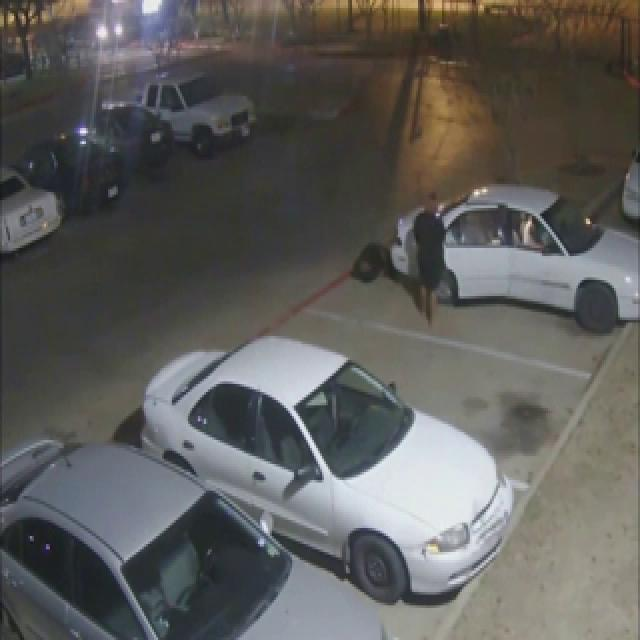arrest: (278, 0, 588, 517)
